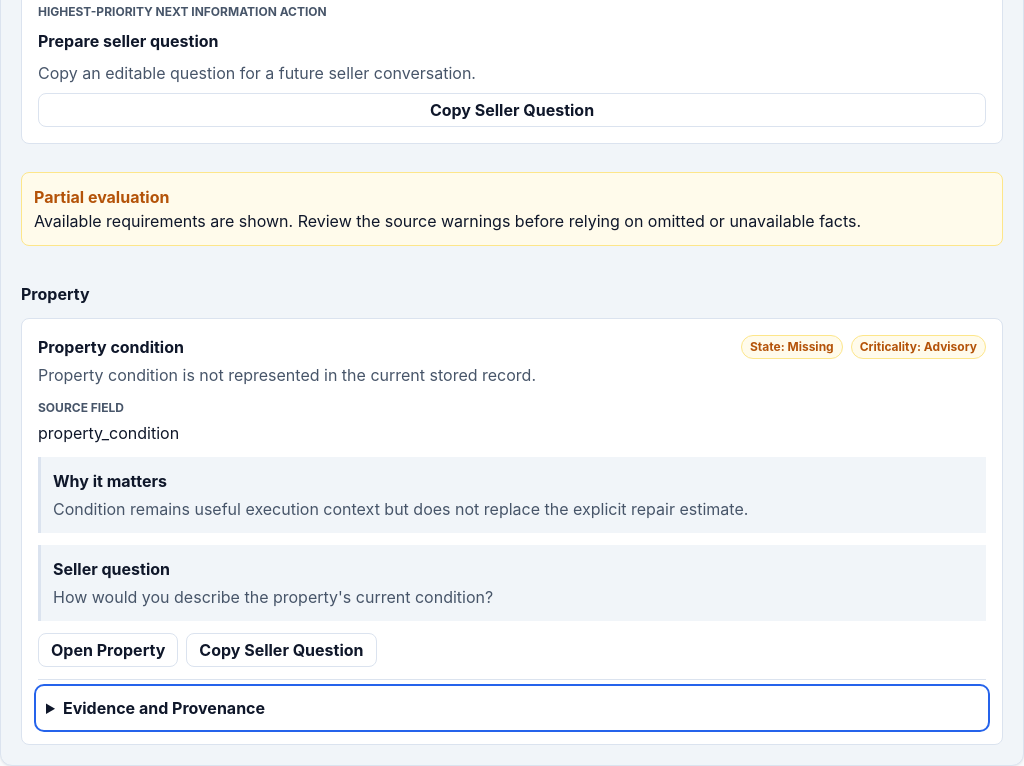
MissingInformationAutopilot › shows Evidence and Provenance in keyboard-operable disclosures
This screenshot has width=1024, height=766.
(page scrolled)
What coordinates should you click on to do the following:
click the heading "Evidence and Provenance"
I would click on:
 (164, 708)
Its box is [63,698,265,718].
(page scrolled)
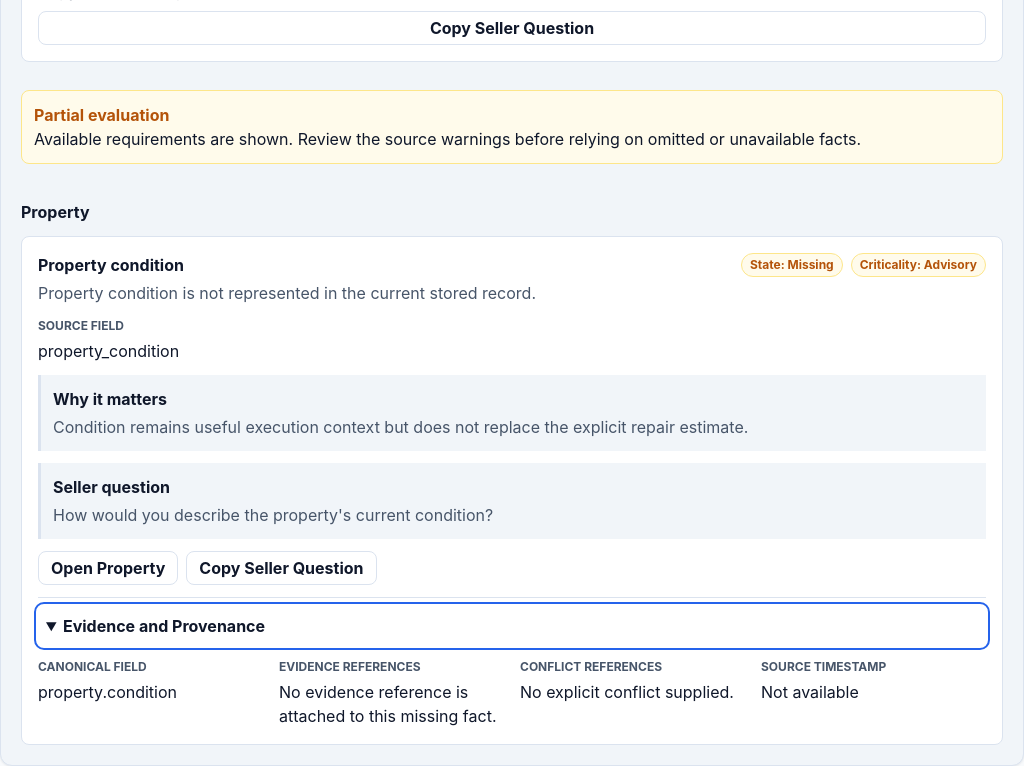
Expected: the text "property.condition" is shown, [38,682,177,702]
Expected: the text "No evidence reference is attached to this missing fact." is shown, [279,680,504,728]
